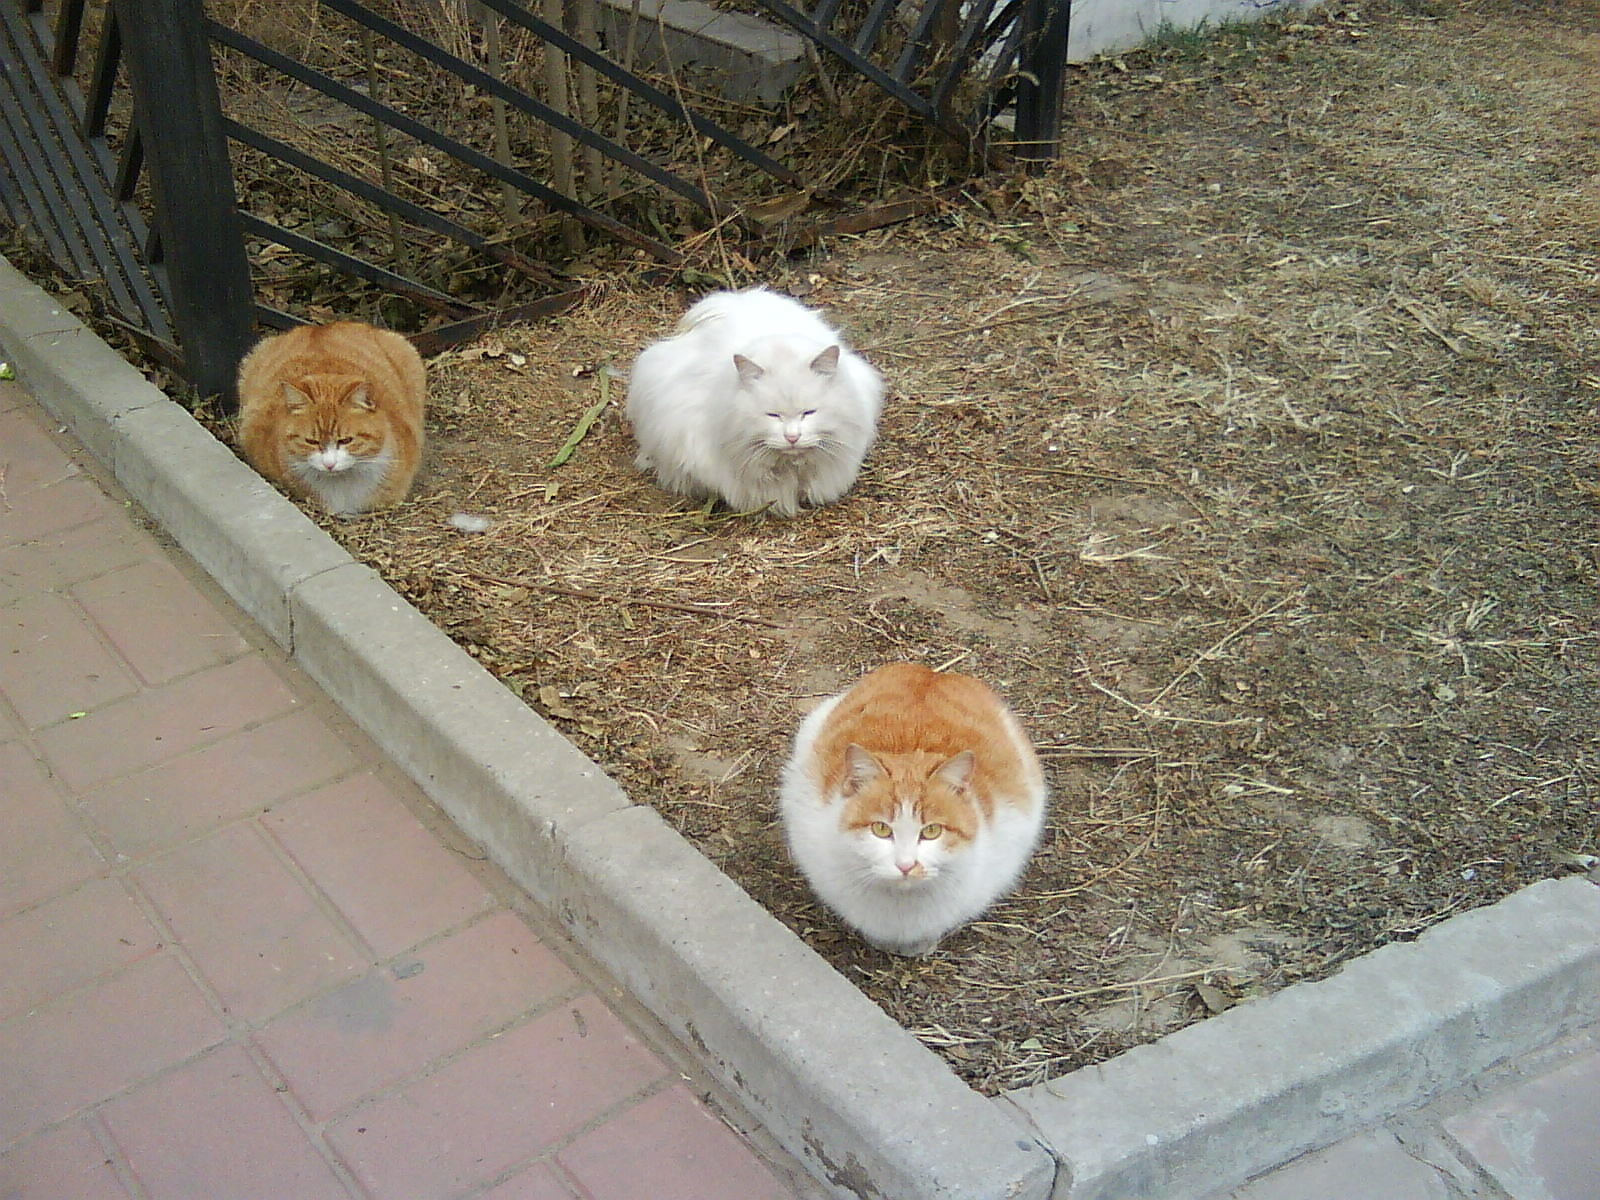cat: (779, 662, 1048, 957), (622, 289, 888, 519), (238, 321, 427, 513)
